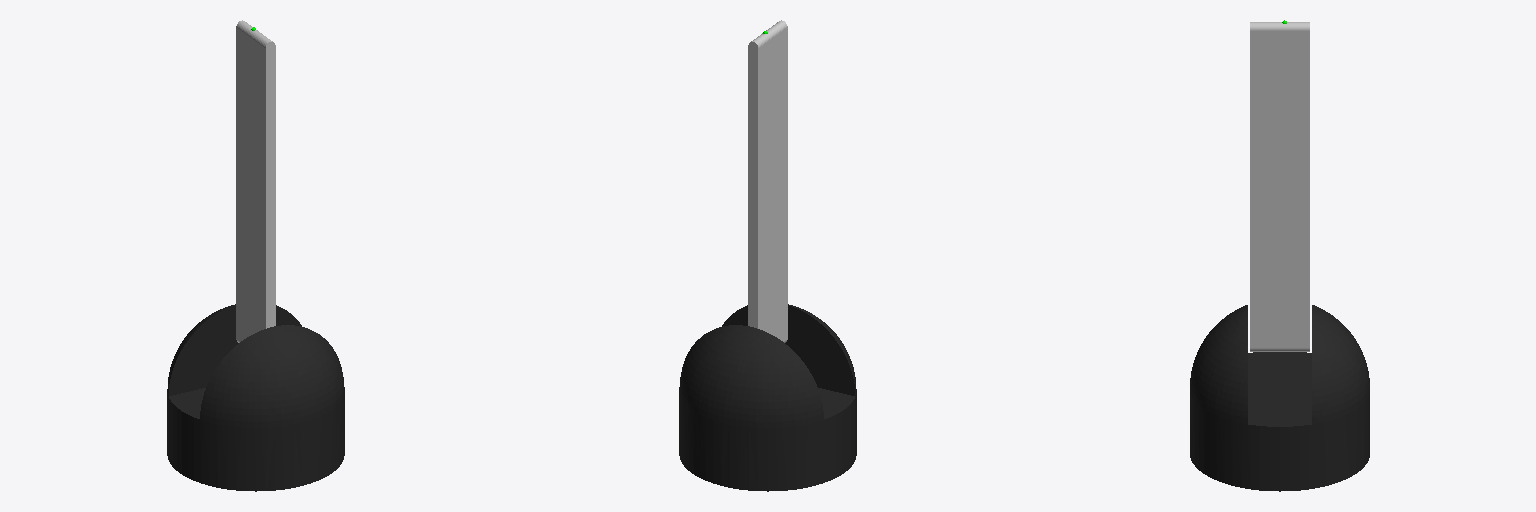
The robot description file, URDF, robot "shovel.urdf":
<?xml version="0.0" ?>
<robot name="shovel.urdf">
    <material name="LightGrey">
        <color rgba="0.8 0.8 0.8 1.0"/>
    </material>

    <material name="DarkGrey">
        <color rgba="0.2 0.2 0.2 1.0"/>
    </material>

    <link name="baseLink">
        <contact>
            <lateral_friction value="1.0"/>
            <rolling_friction value="0.0001"/>
            <inertia_scaling value="3.0"/>
        </contact>
        <inertial>
            <origin rpy="0 0 0" xyz="0 0 0"/>
            <mass value=".1"/>
            <inertia ixx="1" ixy="0" ixz="0" iyy="1" iyz="0" izz="1"/>
        </inertial>
        <visual>
            <origin rpy="0 0 0" xyz="0 0 0"/>
            <geometry>
                <mesh filename="meshes/shovel_base.STL"/>
            </geometry>
            <material name="DarkGrey"/>
        </visual>
    </link>

    <joint name="baseLink-bladeLink" type="revolute">
        <axis xyz="0 1 0"/>
        <origin rpy="0 0 0" xyz="0 0 0.05"/>
        <parent link="baseLink"/>
        <child link="bladeLink"/>
        <limit effort="6.6" lower="-1.0472" upper="1.0472" velocity="8.0"/>
    </joint>

    <link name="bladeLink">
        <contact>
            <lateral_friction value="1.0"/>
            <rolling_friction value="0.0001"/>
            <inertia_scaling value="3.0"/>
        </contact>
        <inertial>
            <origin rpy="0 0 0" xyz="0 0 0"/>
            <mass value="0.02"/>
            <inertia ixx="1" ixy="0" ixz="0" iyy="1" iyz="0" izz="1"/>
        </inertial>
        <visual>
            <origin rpy="0 0 0" xyz="0 0 0"/>
            <geometry>
                <mesh filename="meshes/shovel_blade.STL"/>
            </geometry>
            <material name="LightGrey"/>
        </visual>
        <collision>
            <origin rpy="0 0 0" xyz="0 0 0"/>
            <geometry>
                <mesh filename="meshes/shovel_blade.STL"/>
            </geometry>
        </collision>
    </link>

    <joint name="bladeLink-bladeTip" type="fixed">
        <axis xyz="0 0 1"/>
        <origin xyz="0 0.002 0.15"/>
        <parent link="bladeLink"/>
        <child link="bladeTip"/>
    </joint>

    <link name="bladeTip">
        <inertial>
            <mass value="0.0"/>
            <origin rpy="0 0 0" xyz="0.0 0.0 0.0"/>
            <inertia ixx="0.0" ixy="0.0" ixz="0.0" iyy="0.0" iyz="0.0" izz="0.0"/>
        </inertial>
        <visual>
            <origin rpy="0 0 0" xyz="0 0 0"/>
            <geometry>
                <sphere radius="0.001"/>
            </geometry>
            <material name="green">
                <color rgba="0 1.0 0 1.0"/>
            </material>
        </visual>
    </link>

</robot>

--- What the picture shows (computed from the rendered views, not written in the file) ---
The picture shows the robot from 3 angles, left to right: view 1: azimuth 30°, elevation 25°; view 2: azimuth 150°, elevation 25°; view 3: azimuth 270°, elevation 25°; orthographic projection.
Model shovel.urdf with 3 links and 2 joints (1 revolute, 1 fixed), rooted at baseLink, posed every joint at zero.
Links seen in each view (by area): view 1: baseLink, bladeLink; view 2: baseLink, bladeLink; view 3: baseLink, bladeLink.
Boxes of the visible links, left/top/right/bottom form: baseLink: left=167, top=304, right=344, bottom=491; bladeLink: left=236, top=20, right=275, bottom=342; baseLink: left=679, top=304, right=856, bottom=491; bladeLink: left=748, top=20, right=787, bottom=342; baseLink: left=1190, top=305, right=1369, bottom=491; bladeLink: left=1250, top=22, right=1309, bottom=351.
Bounding box of the posed robot: 0.0759 × 0.076 × 0.201 m (x, y, z).
Meshes: 2 distinct files referenced, 2 mesh visuals loaded (2 binary STL).